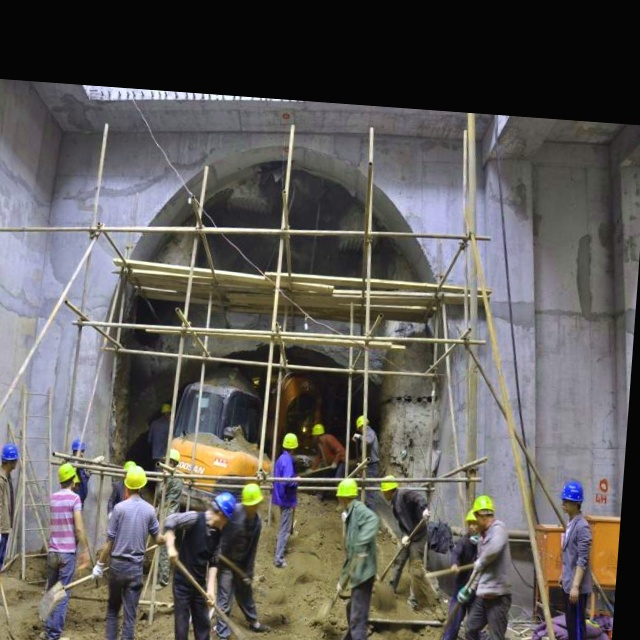Con_Casco: (558, 478, 586, 514), (57, 461, 80, 491), (0, 444, 22, 473)
Sin_Chaleco: (556, 517, 595, 590), (111, 496, 152, 561), (46, 489, 81, 552)
